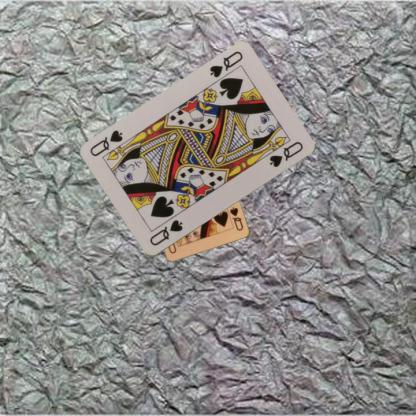Qs: (207, 48, 244, 80), (147, 218, 184, 247), (227, 204, 244, 232)
